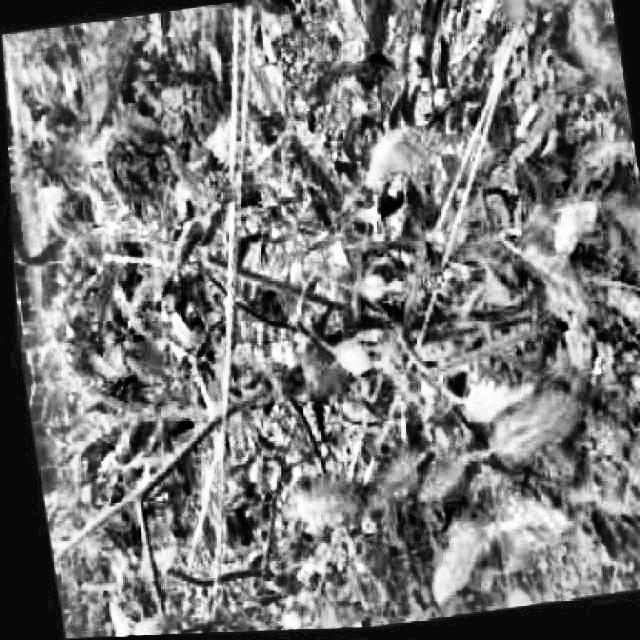plants: (198, 0, 638, 489), (12, 196, 260, 562), (0, 4, 252, 267)
